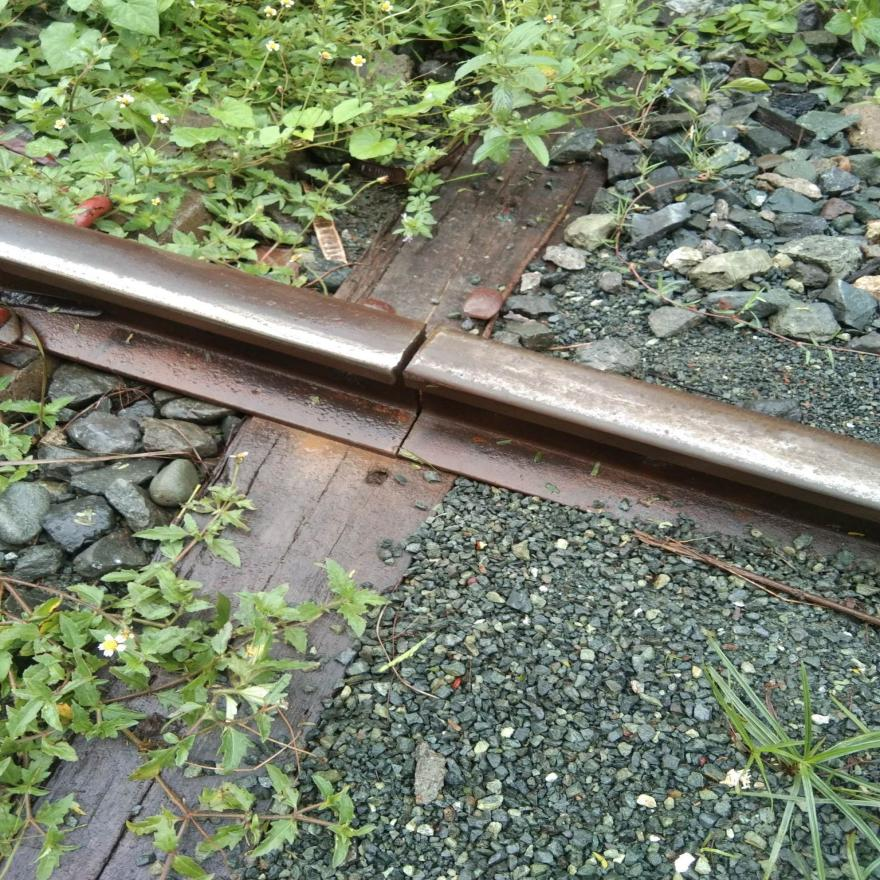railway-gap: (361, 376, 476, 462), (361, 307, 463, 387)
